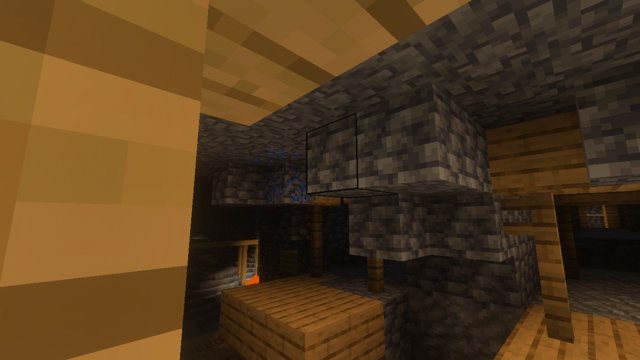lapis: (238, 144, 319, 207)
